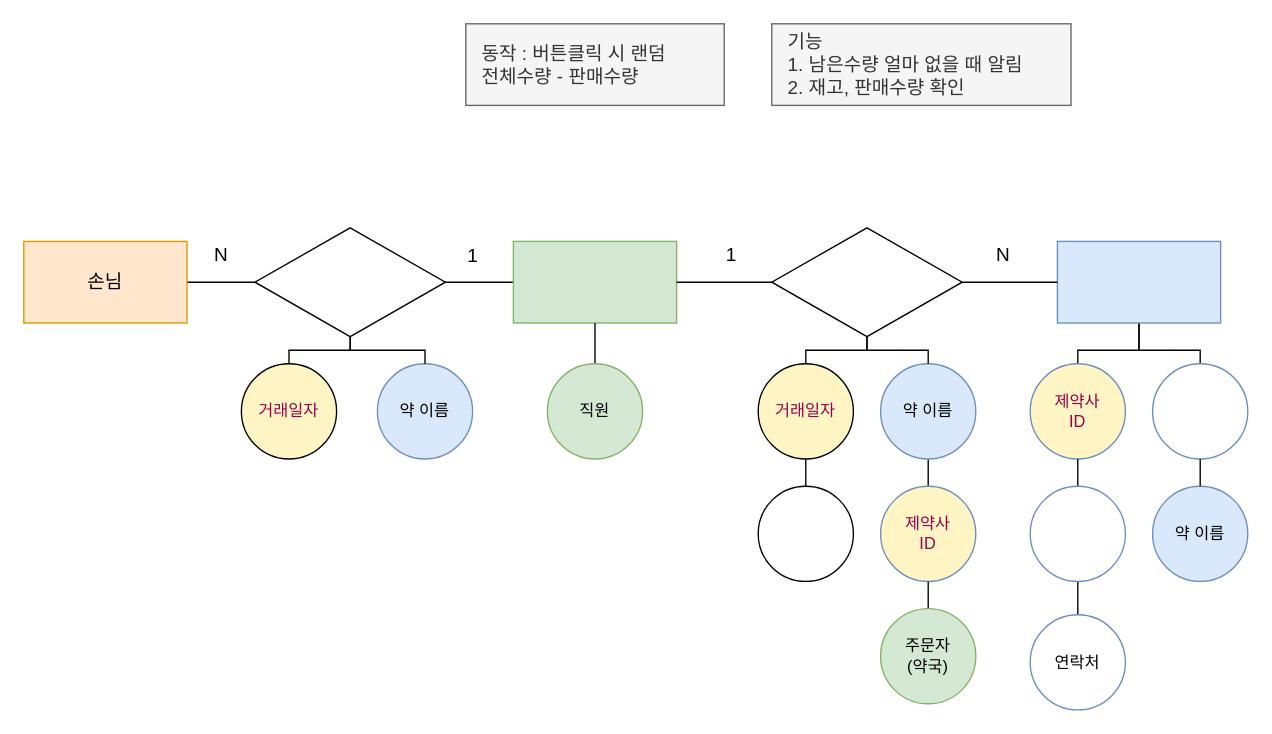
Some shapes in this 1272 by 734 pixel diagram are drawn without their labels. The centre of each missing label's shape, as x and y in pixels:
"거래" goes at (866,281).
"담당직원" goes at (1077,533).
"발주수량" goes at (805,533).
"약국" goes at (594,281).
"전화번호" goes at (1199,410).
"제약사" goes at (1138,281).
"판매" goes at (349,281).
